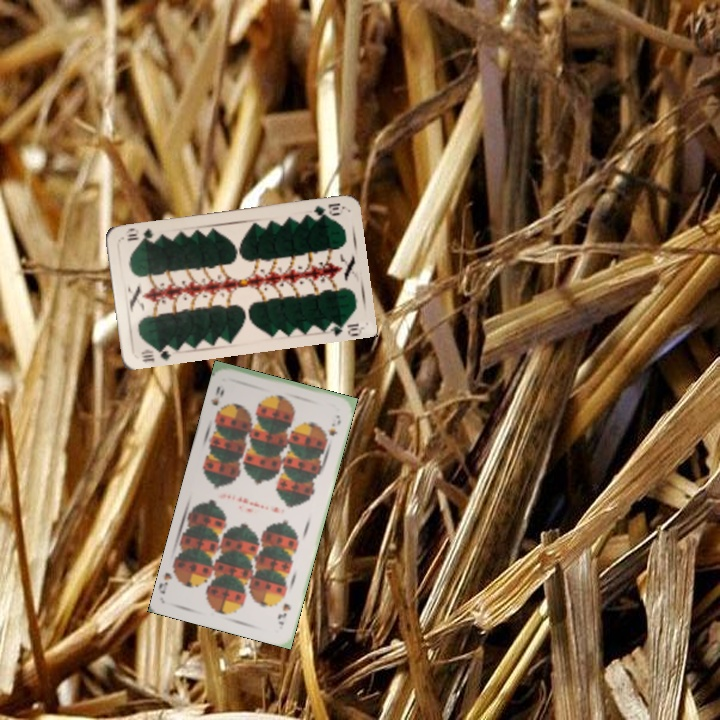G10: (137, 342, 173, 365), (310, 199, 342, 219)
S9: (207, 382, 227, 418), (274, 599, 294, 628)
